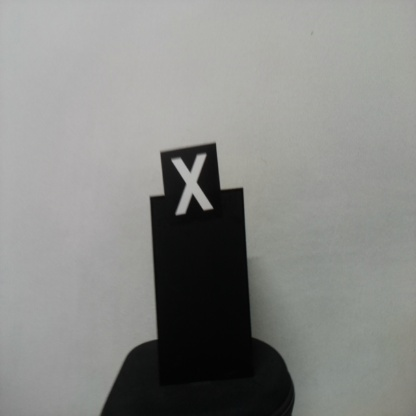id_13: (160, 149, 220, 227)
